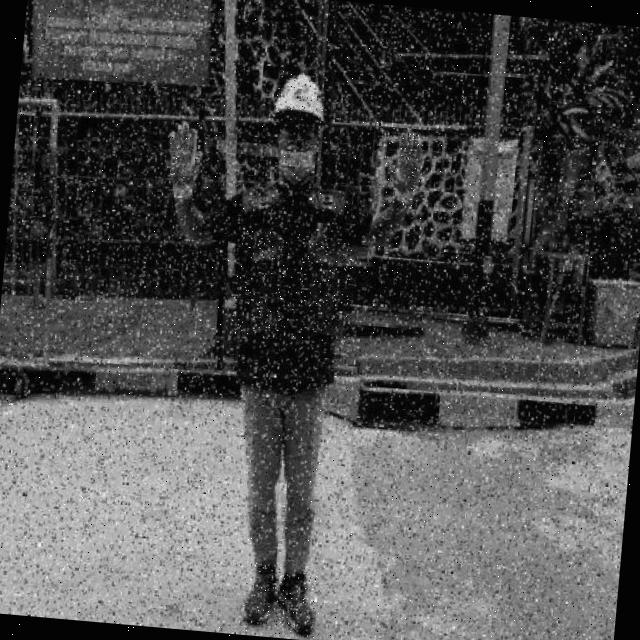boots: (273, 570, 319, 638), (240, 560, 280, 628)
helmet: (271, 70, 328, 122)
vest: (231, 227, 353, 345)
